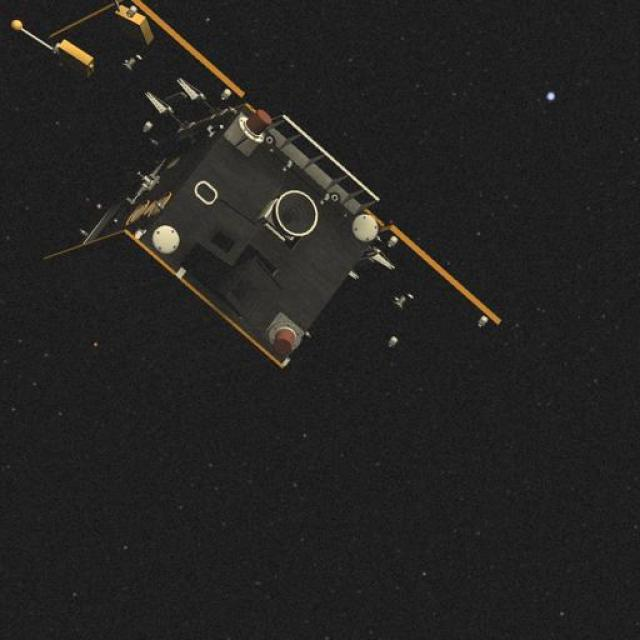proba_2: (16, 10, 518, 390)
